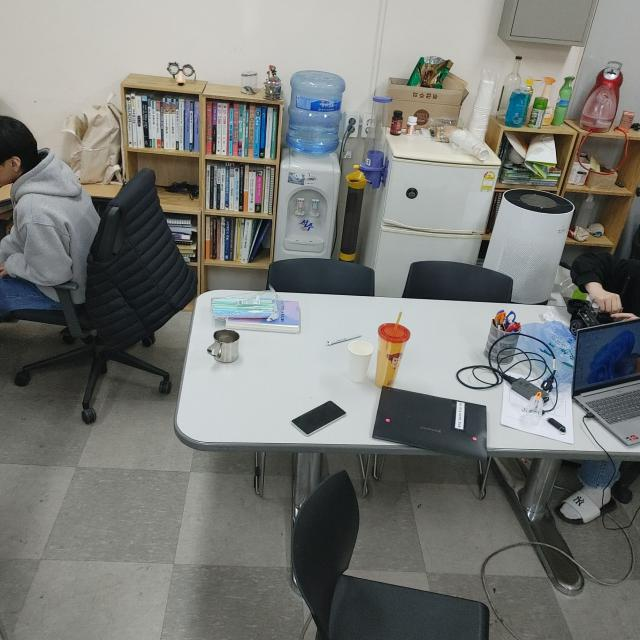cup: (206, 329, 242, 365)
phone: (290, 397, 346, 435)
